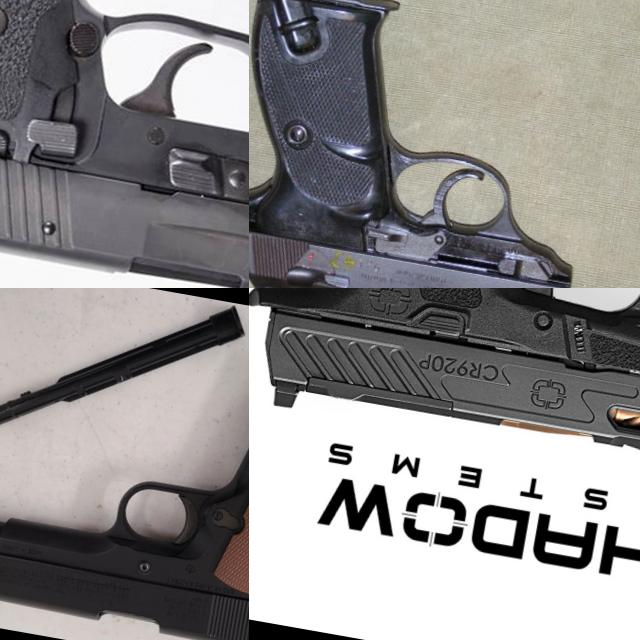handgun: (249, 0, 640, 288), (0, 288, 249, 640), (249, 288, 640, 507), (0, 0, 249, 288)
